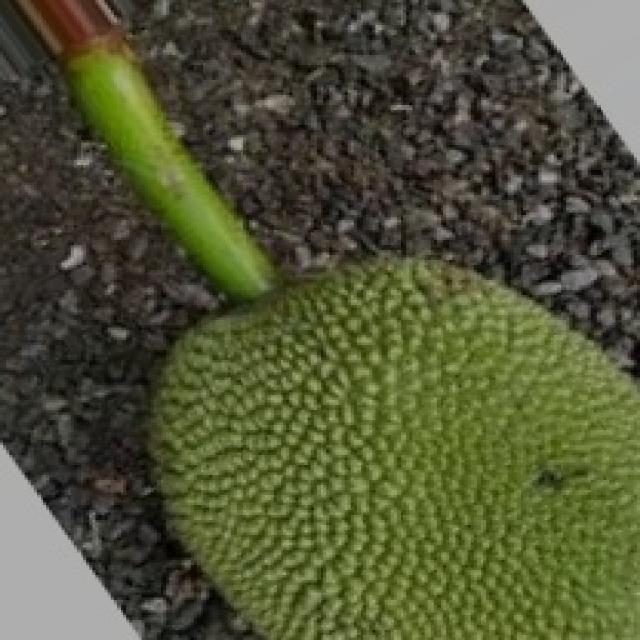Fruit: (249, 222, 640, 640)
